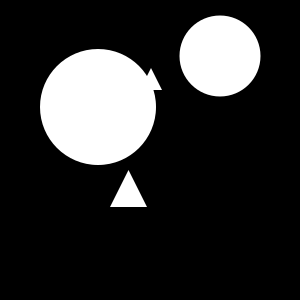rectangle: (40, 49, 156, 165), (179, 16, 260, 96)
triangle: (110, 170, 147, 207), (140, 68, 162, 90)
